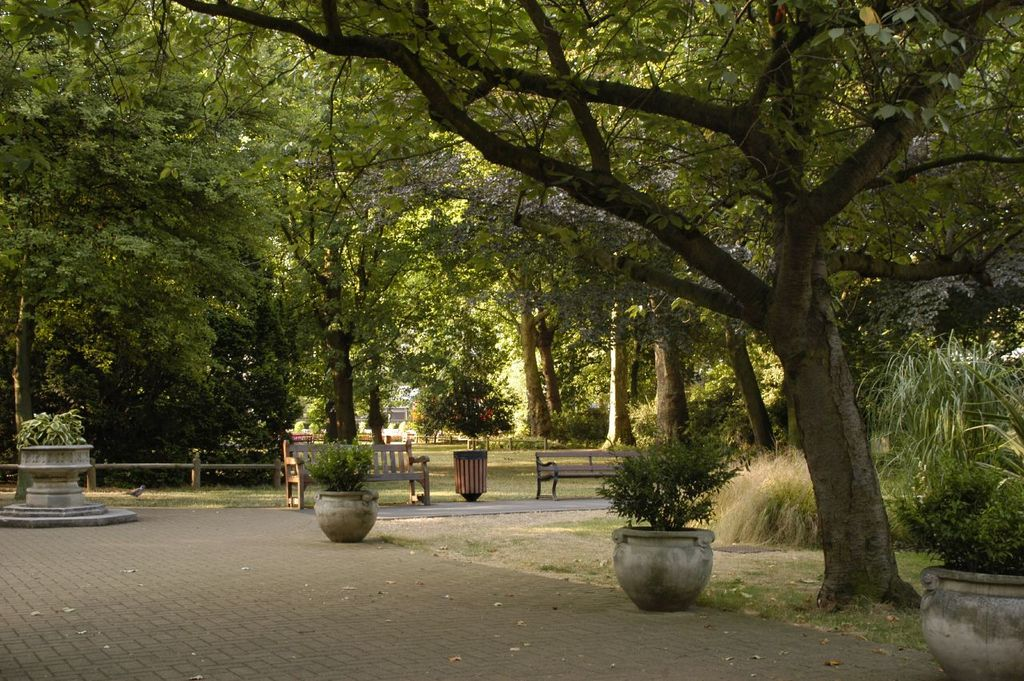Tree: (125, 0, 1023, 609), (0, 0, 261, 493)
